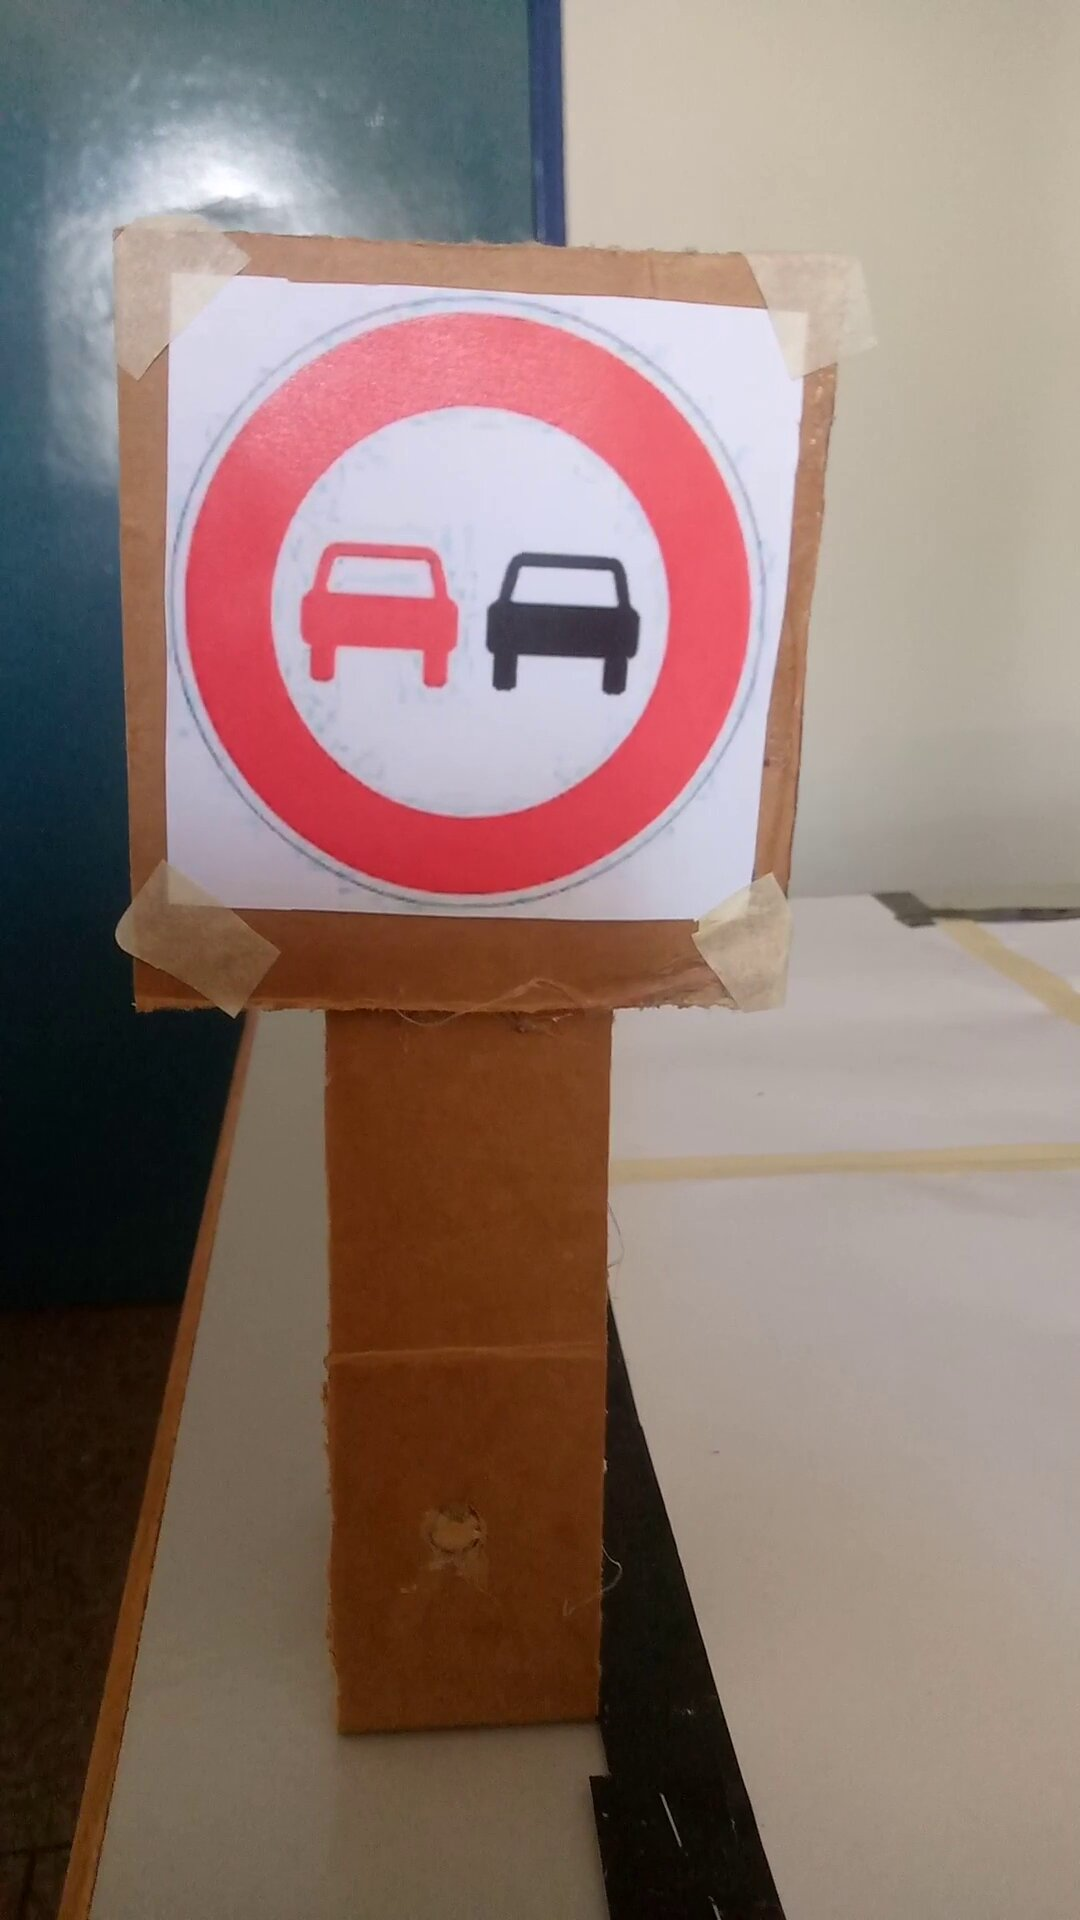panel100: (167, 266, 775, 951)
